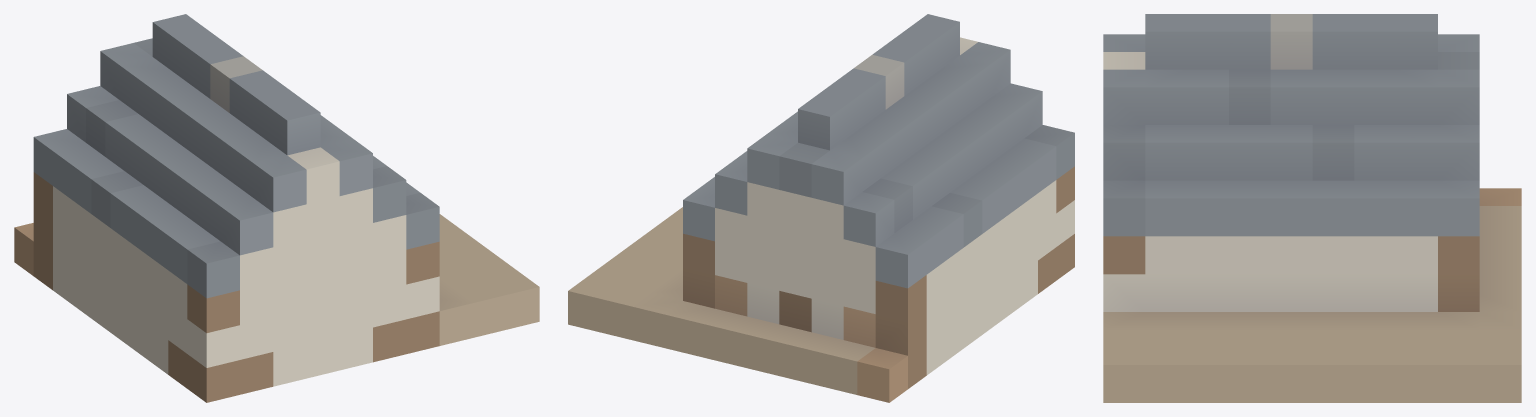
File: dyer_works.lite.glb
3 renders of one model, left to right at view 1: azimuth 30°, elevation 25°; view 2: azimuth 150°, elevation 25°; view 3: azimuth 270°, elevation 25°, orthographic. The views are drawn at different scales.
Parts seen in each view (by area): view 1: dyer_works; view 2: dyer_works; view 3: dyer_works.
Boxes of the visible parts, <box> form: dyer_works: <box>14,14,539,402</box>; dyer_works: <box>568,14,1074,402</box>; dyer_works: <box>1103,14,1521,402</box>.
Bounding box in the file's own units: 5 × 3.5 × 5.
